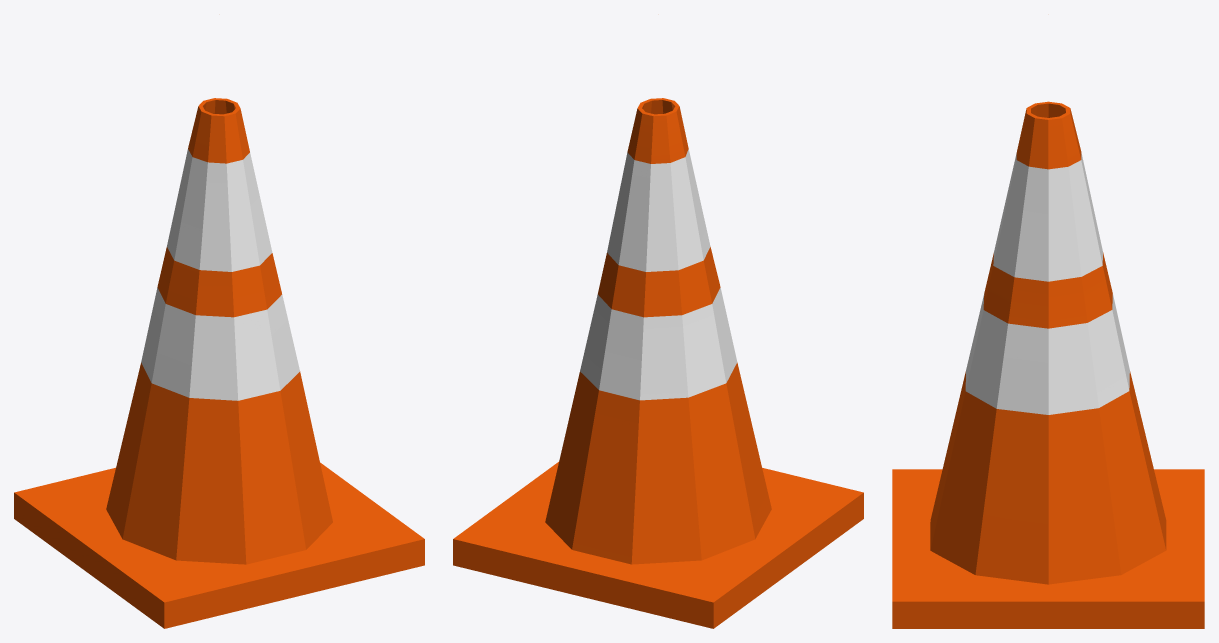
The model's file is trafficcone.fbx.
The picture shows the model from 3 angles, left to right: view 1: azimuth 30°, elevation 25°; view 2: azimuth 150°, elevation 25°; view 3: azimuth 270°, elevation 25°; orthographic projection. The views are drawn at different scales.
Visible parts, largest first — view 1: pCone3; view 2: pCone3; view 3: pCone3.
Boxes of the visible parts, <box> form: pCone3: <box>14,98,424,628</box>; pCone3: <box>453,98,863,628</box>; pCone3: <box>892,101,1204,628</box>.
Size of the model in its own units: 0.8765 by 1.7 by 0.8765.
